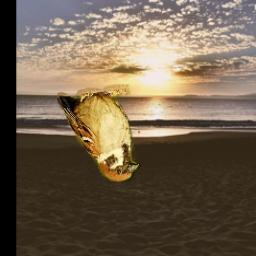Sparrow: (57, 85, 140, 183)
